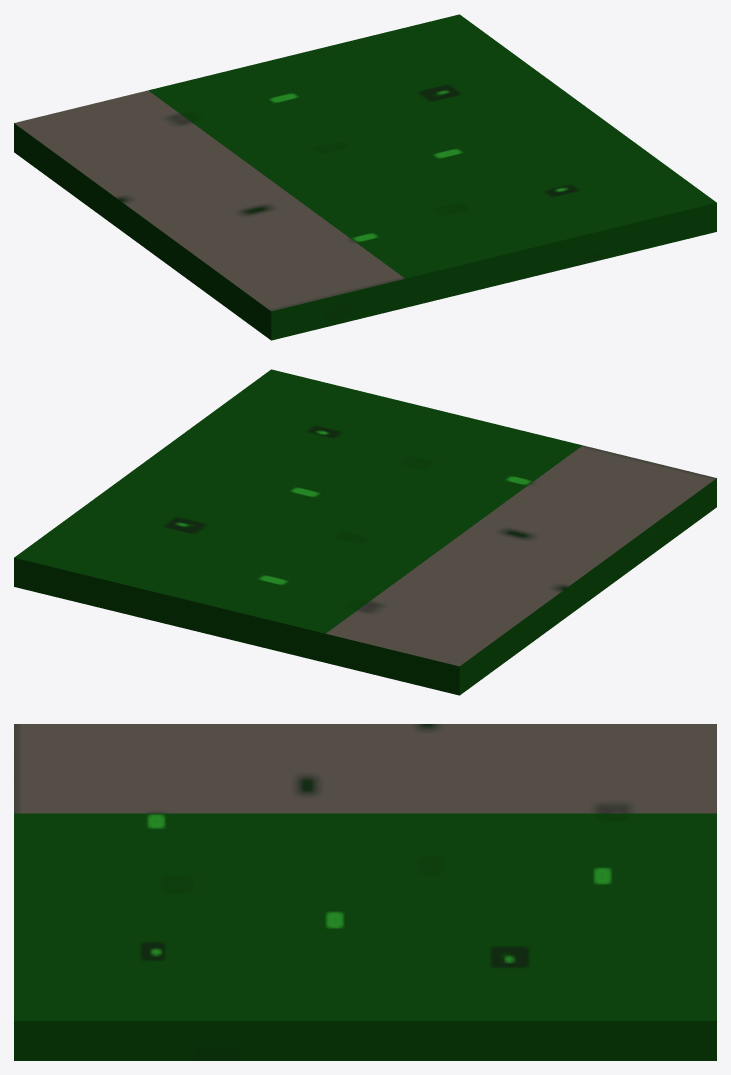
The model's file is sidewalk_8x8_00.glb.
3 renders of one model, top to bottom at view 1: azimuth 30°, elevation 25°; view 2: azimuth 150°, elevation 25°; view 3: azimuth 270°, elevation 25°, orthographic. The views are drawn at different scales.
Parts seen in each view (by area): view 1: sidewalk_8x8-00; view 2: sidewalk_8x8-00; view 3: sidewalk_8x8-00.
Boxes of the visible parts, x1=… form: sidewalk_8x8-00: x1=14, y1=14, x2=716, y2=340; sidewalk_8x8-00: x1=14, y1=369, x2=716, y2=695; sidewalk_8x8-00: x1=14, y1=724, x2=716, y2=1060.
Size of what is drawn, in the model's own units: 8 by 0.5 by 8.
Materials: 1 (1 with a texture image).
